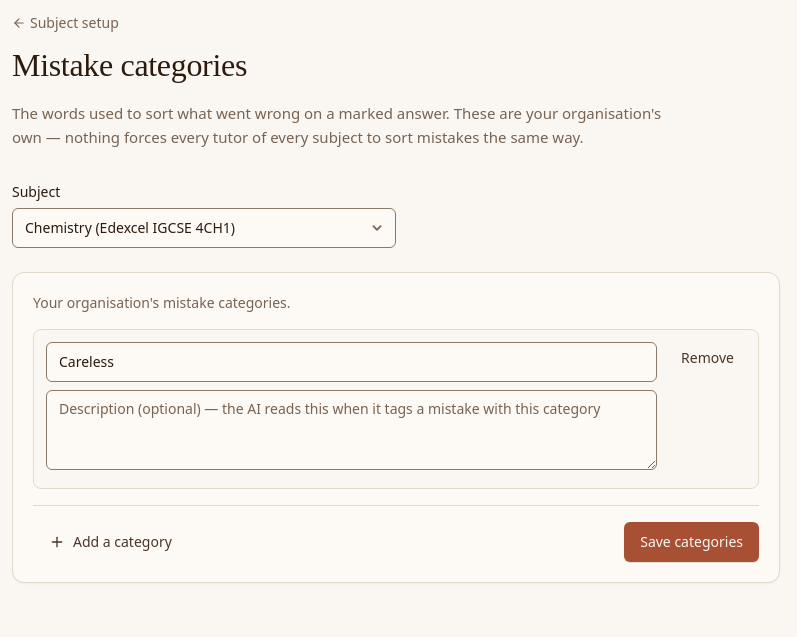
Test: a rejected save shows the server's reason, not generic advice
Expected: the field showing "Careless" is shown, [46,342,657,382]
Click the button "Save categories" at (692, 542), box [624,522,759,562]
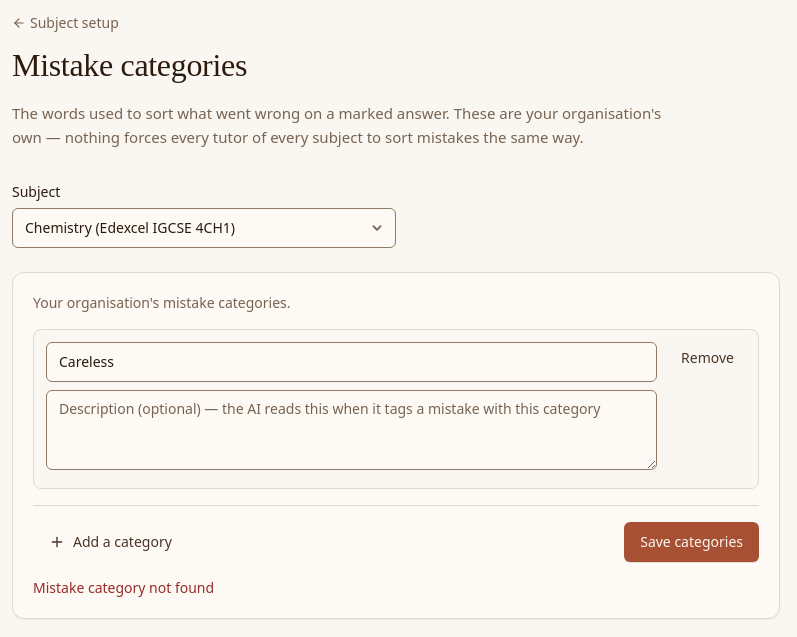
Expected: the text "Mistake category not found" is shown, [33,578,214,597]
